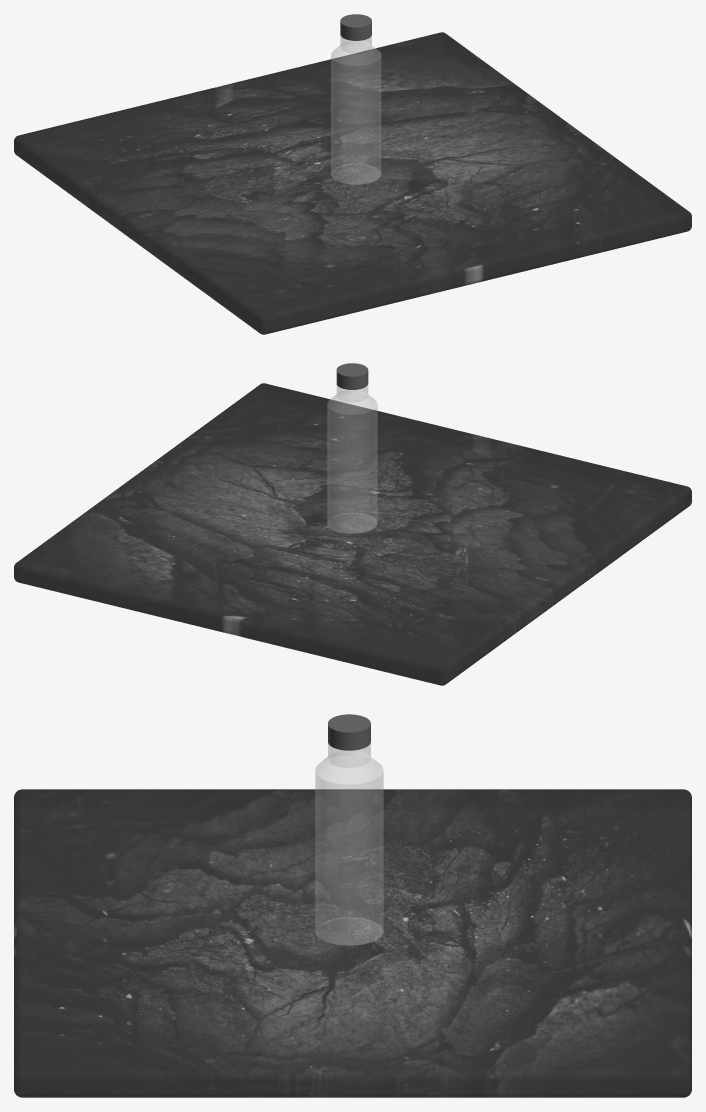
The model's file is bottel8.glb.
3 views of the same model, one above another, from view 1: azimuth 30°, elevation 25°; view 2: azimuth 150°, elevation 25°; view 3: azimuth 270°, elevation 25° (orthographic). The views are drawn at different scales.
Parts seen in each view (by area): view 1: Plane, body, Cylinder; view 2: Plane, body, Cylinder; view 3: Plane, body, Cylinder.
Part boxes in pixels (x1,y1,x2,y2): Plane: [14, 32, 691, 334]; body: [331, 36, 380, 184]; Cylinder: [340, 14, 371, 40]; Plane: [14, 383, 691, 685]; body: [327, 385, 377, 533]; Cylinder: [336, 363, 368, 389]; Plane: [14, 789, 691, 1097]; body: [315, 743, 383, 945]; Cylinder: [328, 714, 370, 750].
Bounding box in the file's own units: 19.83 × 7.58 × 19.83.
3 materials, 1 textured.
